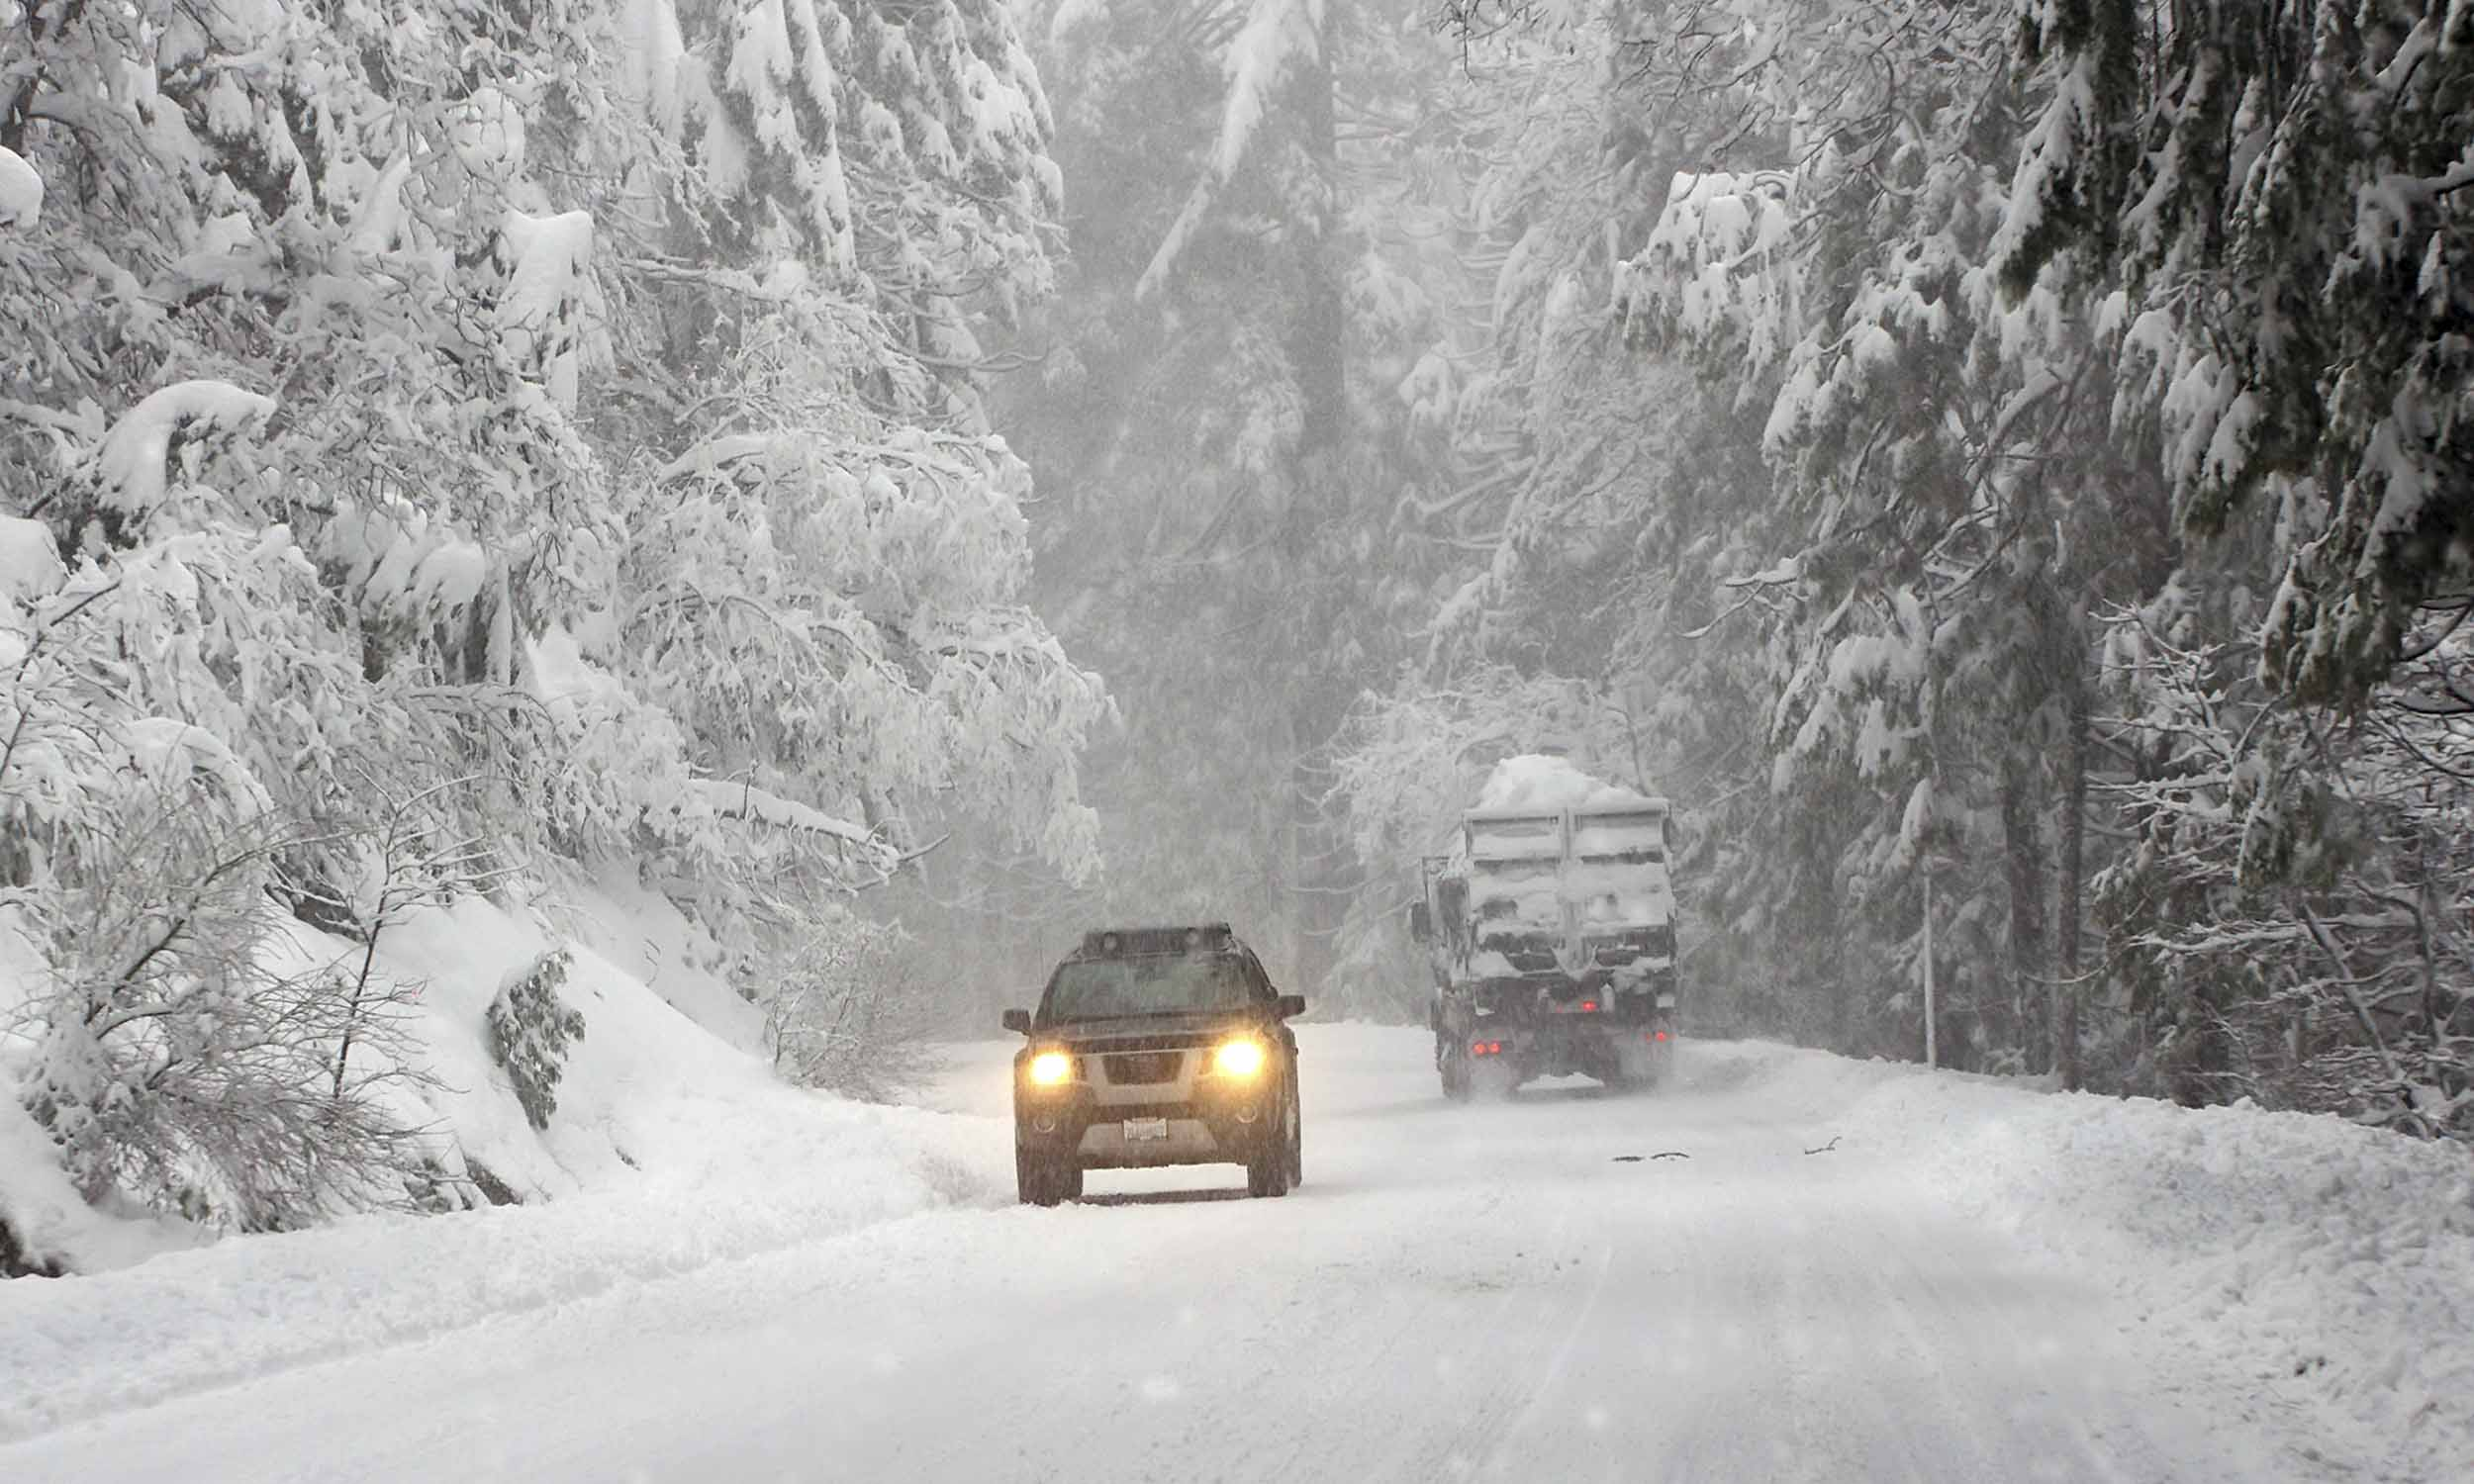car: (995, 922, 1325, 1200)
truck: (1403, 793, 1696, 1102)
